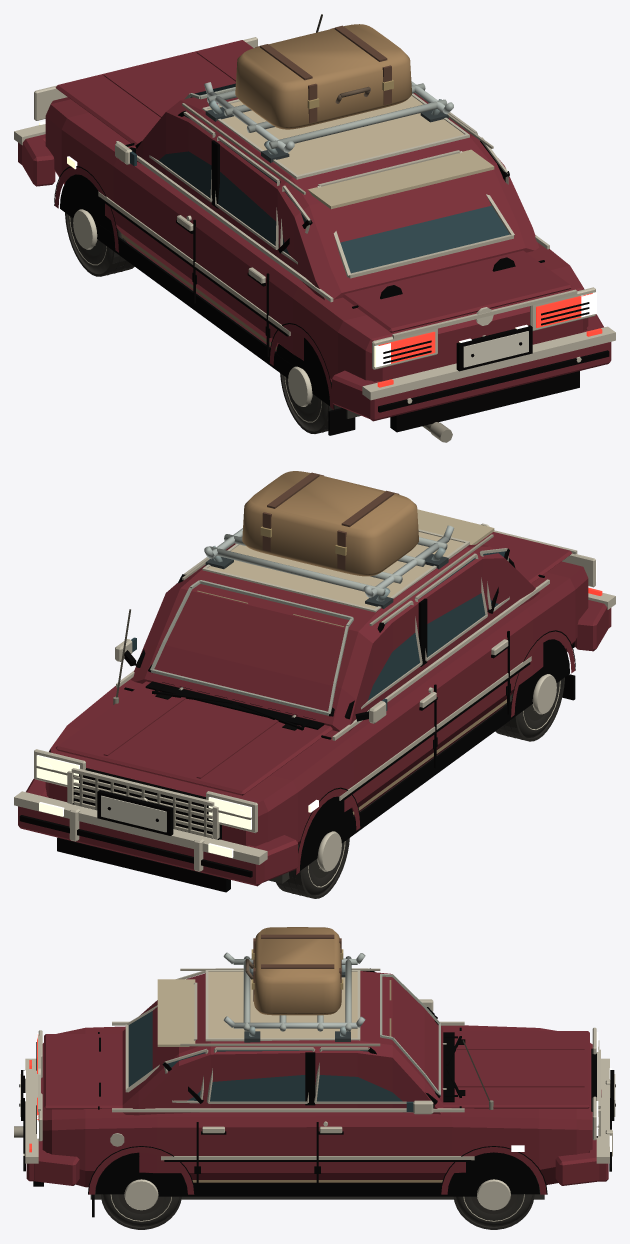
The model's file is car.glb.
The picture shows the model from 3 angles, top to bottom: view 1: azimuth 30°, elevation 25°; view 2: azimuth 150°, elevation 25°; view 3: azimuth 270°, elevation 25°; orthographic projection. The views are drawn at different scales.
Visible parts, largest first — view 1: Car_Paint, Car_Trim, Car_Chrome, Travel case, Car_Glass, Car_Interior, Rain gutter roof rack and hardware, Wheel_FL, Wheel_RL, Car_LightR, Leather case straps, Car_Plate (+1 smaller); view 2: Car_Paint, Car_Chrome, Car_Trim, Travel case, Rain gutter roof rack and hardware, Car_Glass, Wheel_FL, Car_LightW, Wheel_RL, Car_Interior, Leather case straps, Car_Plate; view 3: Car_Paint, Car_Trim, Car_Chrome, Travel case, Car_Glass, Car_Interior, Rain gutter roof rack and hardware, Wheel_FR, Wheel_RR, Car_Under, Leather case straps, Car_LightW.
Boxes of the visible parts, <box> form: Car_Paint: <box>18,40,611,421</box>; Car_Trim: <box>54,14,609,435</box>; Car_Chrome: <box>14,37,615,442</box>; Travel case: <box>235,24,411,129</box>; Car_Glass: <box>130,83,509,273</box>; Car_Interior: <box>121,149,494,349</box>; Rain gutter roof rack and hardware: <box>204,79,453,162</box>; Wheel_FL: <box>65,209,134,276</box>; Wheel_RL: <box>280,366,340,433</box>; Car_LightR: <box>377,293,602,387</box>; Leather case straps: <box>255,25,391,123</box>; Car_Plate: <box>463,331,528,367</box>; Car_Paint: <box>18,532,611,886</box>; Car_Chrome: <box>14,523,615,871</box>; Car_Trim: <box>19,548,575,892</box>; Travel case: <box>242,471,418,576</box>; Rain gutter roof rack and hardware: <box>204,525,454,608</box>; Car_Glass: <box>131,551,505,710</box>; Wheel_FL: <box>276,831,349,898</box>; Car_LightW: <box>36,561,596,857</box>; Wheel_RL: <box>495,674,564,741</box>; Car_Interior: <box>197,509,506,814</box>; Leather case straps: <box>262,472,399,569</box>; Car_Plate: <box>101,795,166,832</box>; Car_Paint: <box>26,971,608,1194</box>; Car_Trim: <box>19,968,615,1217</box>; Car_Chrome: <box>14,968,612,1163</box>; Travel case: <box>253,927,341,1015</box>; Car_Glass: <box>128,1011,413,1111</box>; Car_Interior: <box>157,979,442,1182</box>; Rain gutter roof rack and hardware: <box>223,949,365,1042</box>; Wheel_FR: <box>449,1174,539,1229</box>; Wheel_RR: <box>95,1177,185,1229</box>; Car_Under: <box>90,1191,544,1199</box>; Leather case straps: <box>253,934,341,1001</box>; Car_LightW: <box>23,1032,611,1151</box>.
Size of the model in its own units: 1.88 by 1.91 by 4.51.
